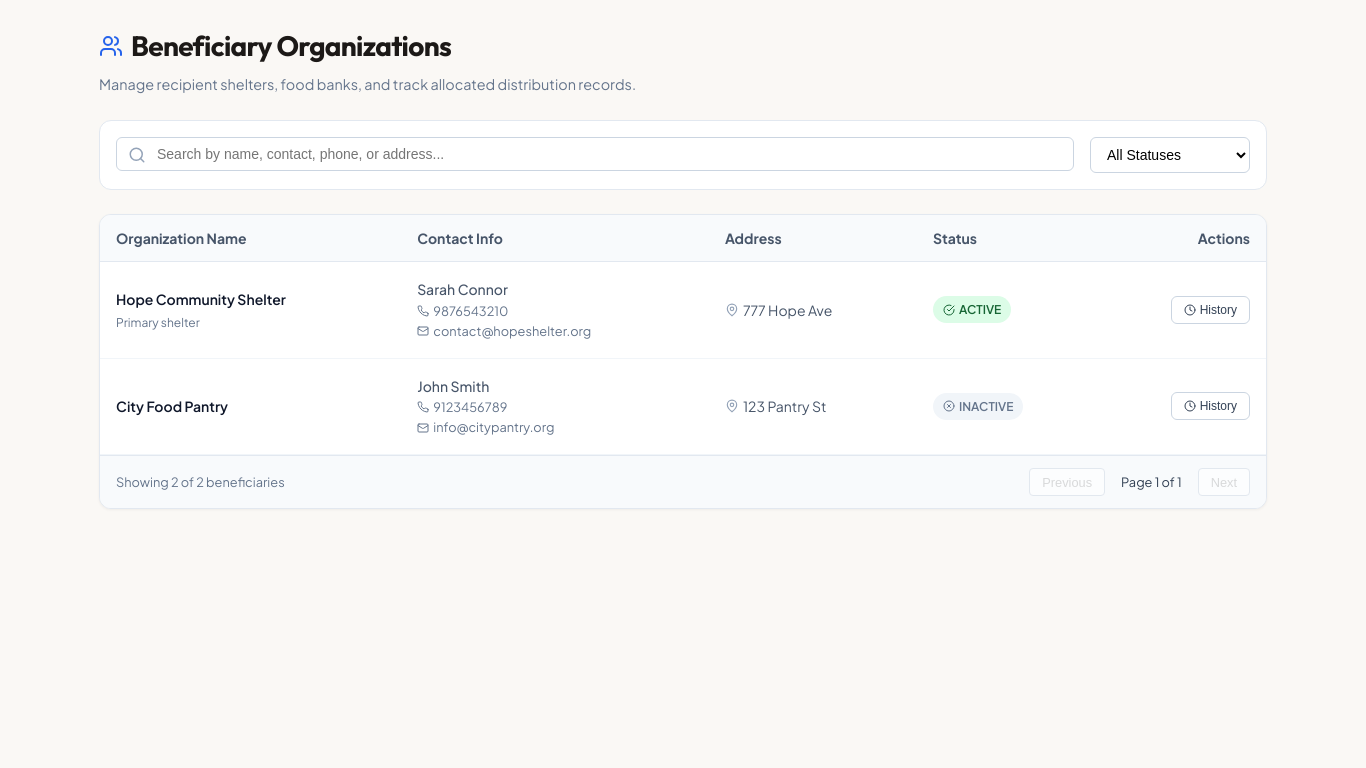
it: Module 06 — Beneficiary Management Frontend Unit & Integration Suite › BeneficiaryListPage Component › opens history modal when History button is clicked
The image size is (1366, 768).
Check: the text "Hope Community Shelter" is shown, box [116,290,286,308]
Step 1. Click the button "History" in the row of "Hope Community Shelter" → [1210, 310], box [1171,296,1250,324]
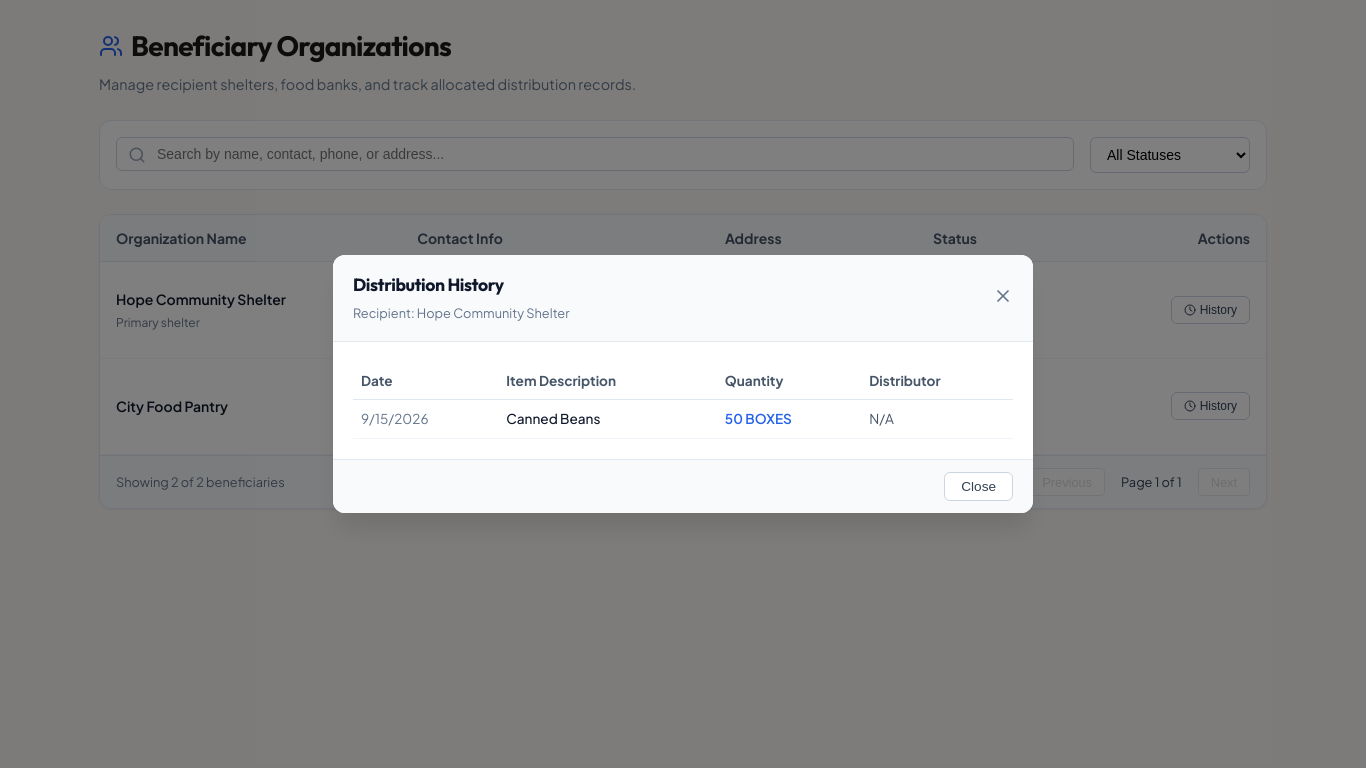
Check: the heading "Distribution History" is shown, box [353,273,504,296]
Check: the text "Canned Beans" is shown, box [498,400,717,439]
Check: the text "50 BOXES" is shown, box [717,400,861,439]
